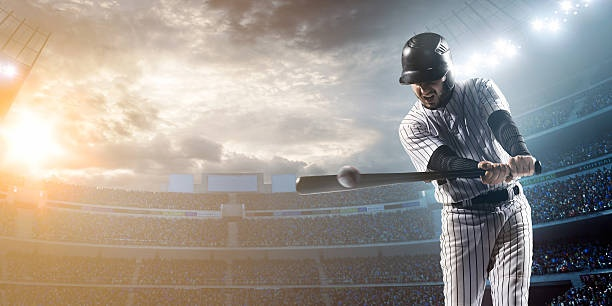bita: (294, 154, 534, 192)
